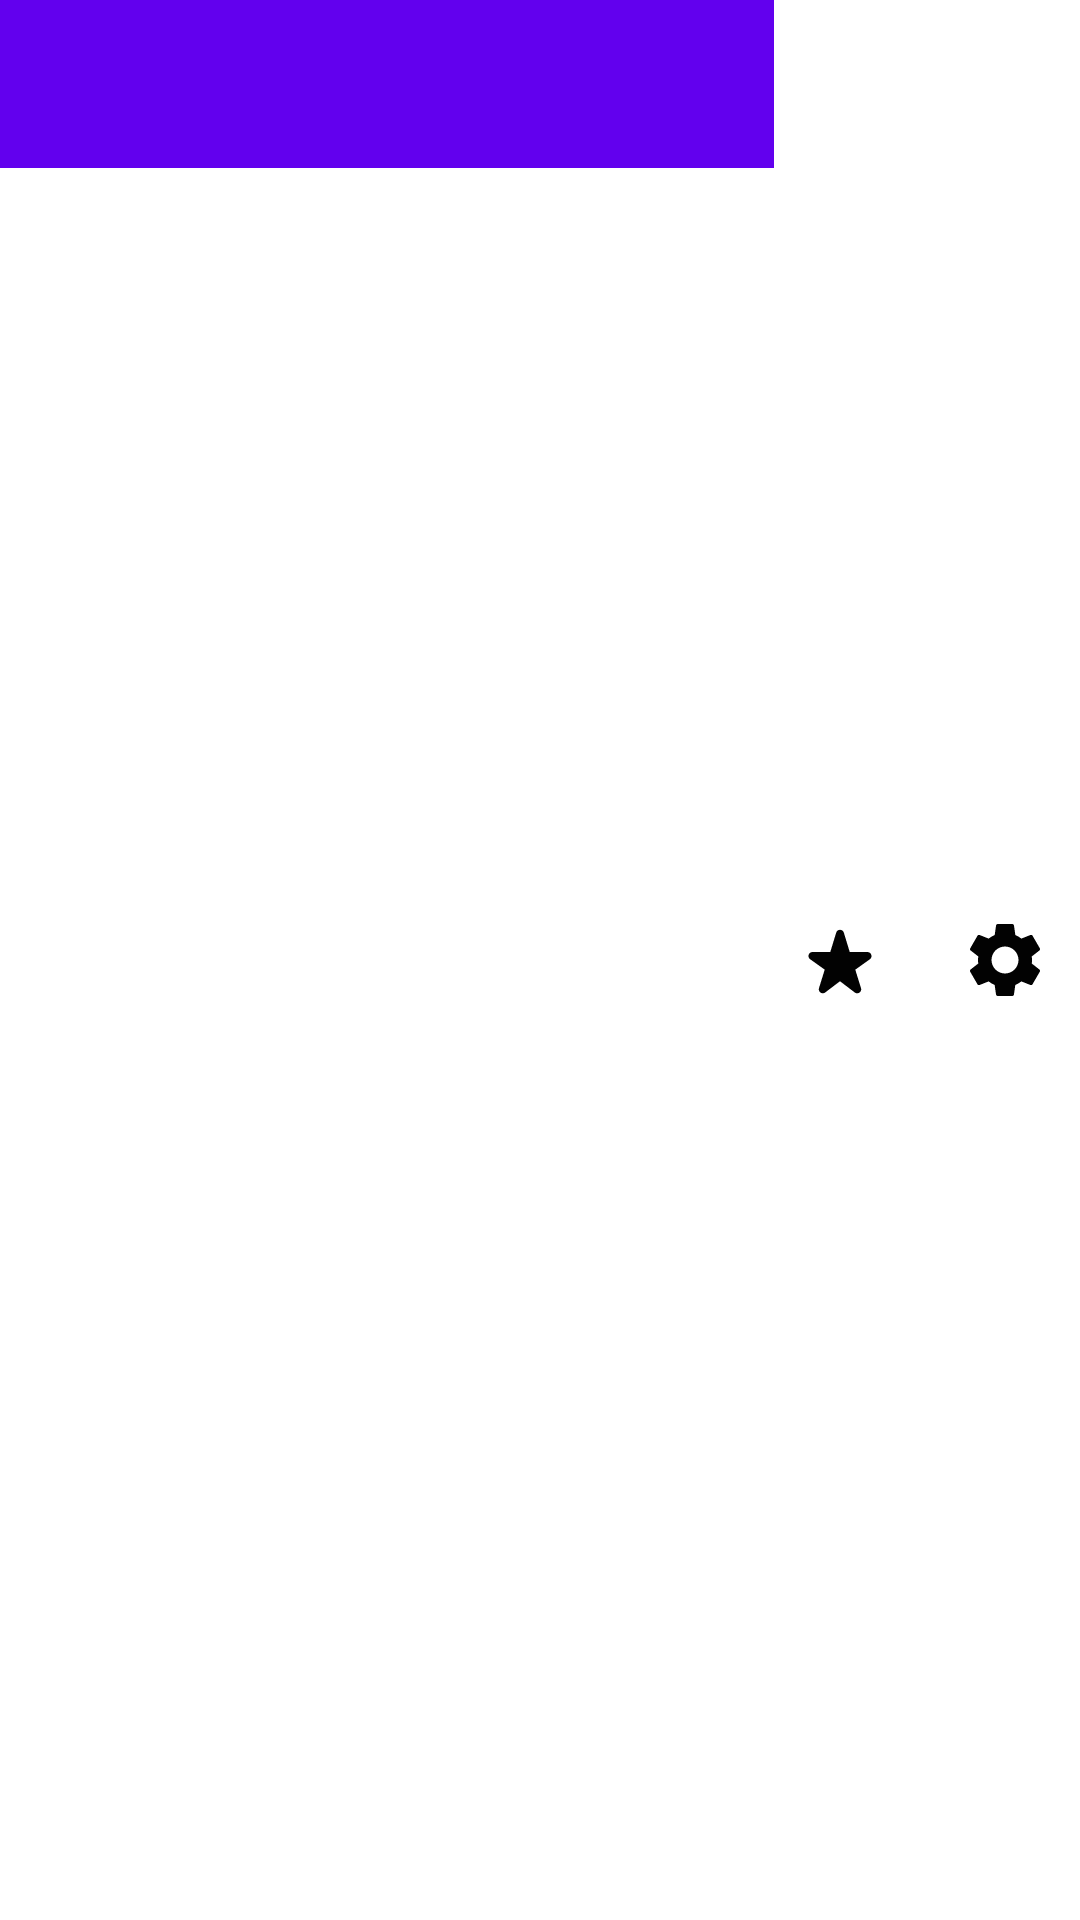

Icons on this 1080 × 1920 Android screen, each with the point to tap as (x,y):
rate us: (840,961)
settings: (1005,960)
